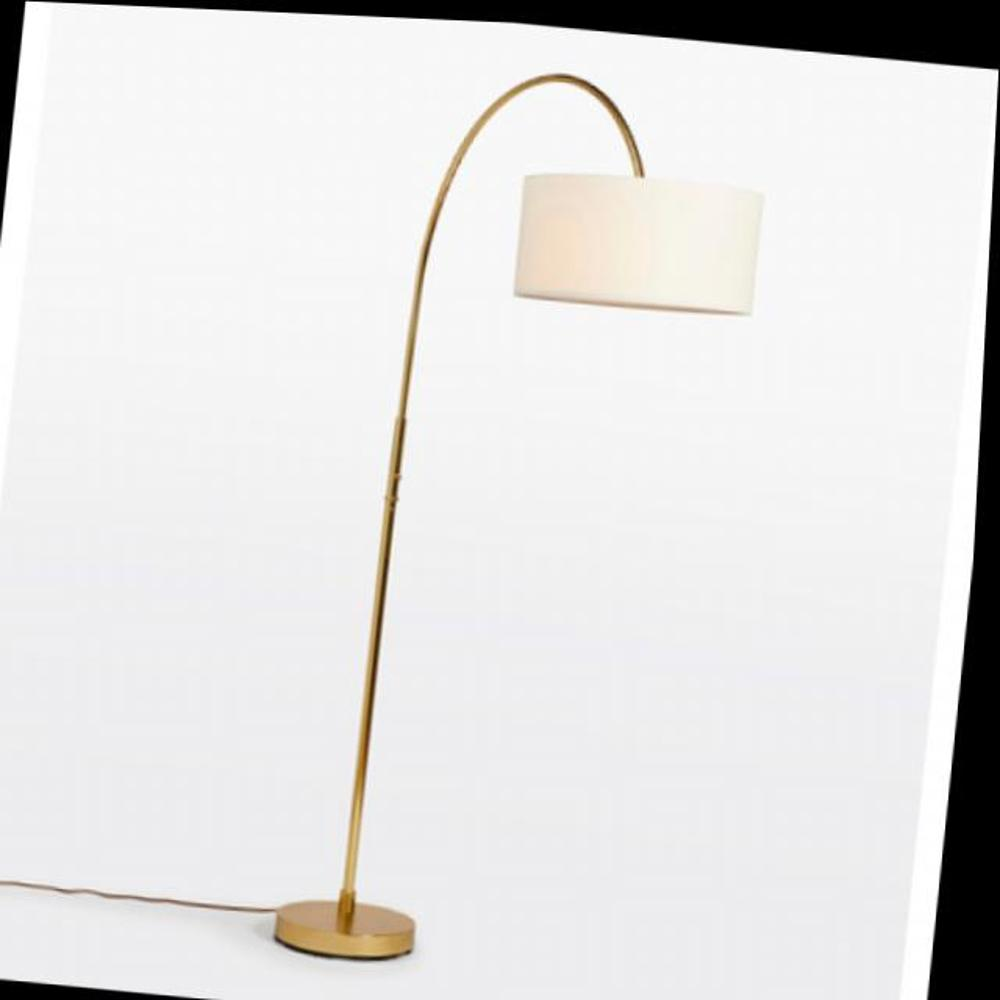shelf: (236, 12, 816, 1000)
